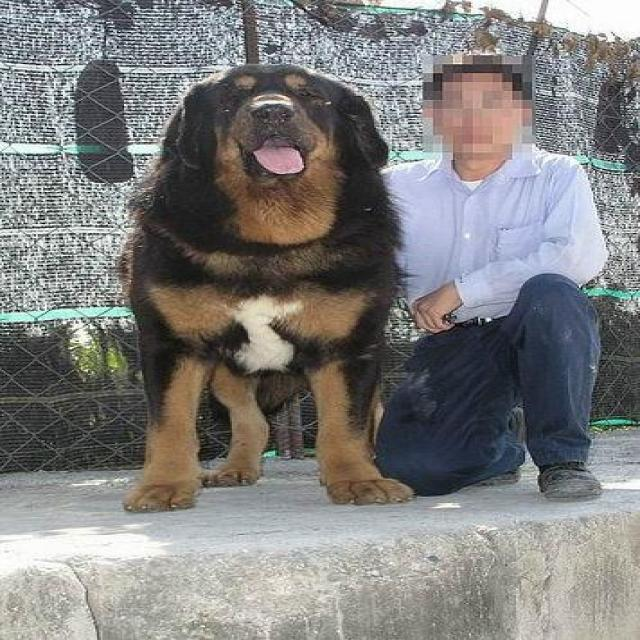adult_dog: (122, 63, 416, 516)
non-dog: (367, 55, 614, 505)
